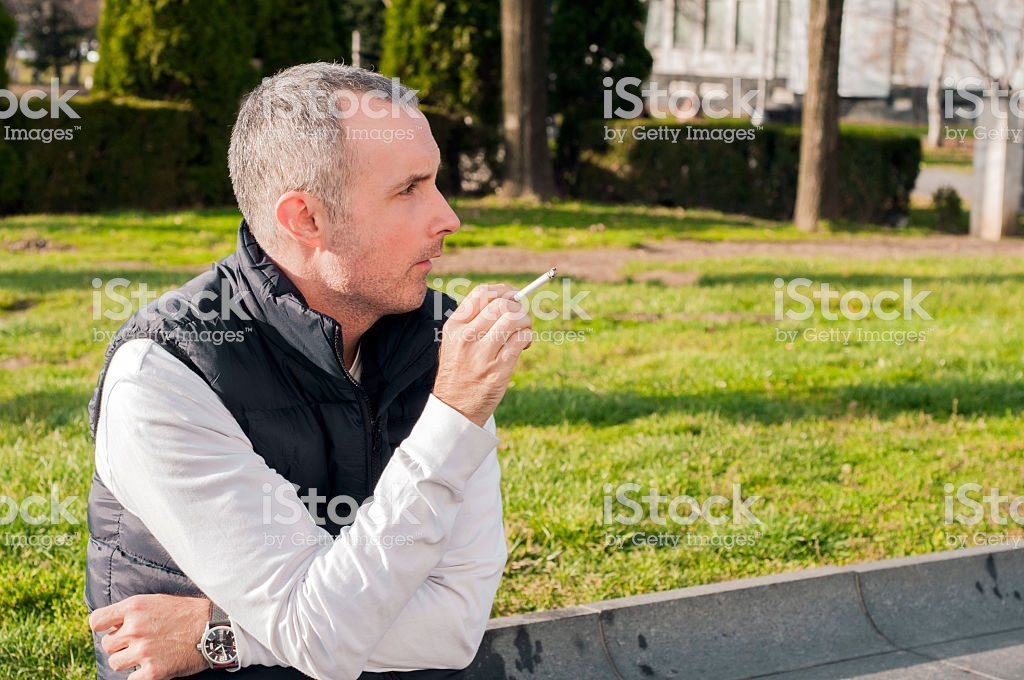sigaretta: (506, 260, 558, 305)
